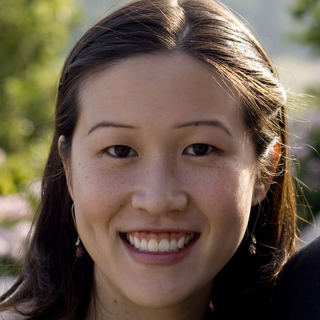eye: (169, 133, 229, 167), (88, 140, 148, 166)
